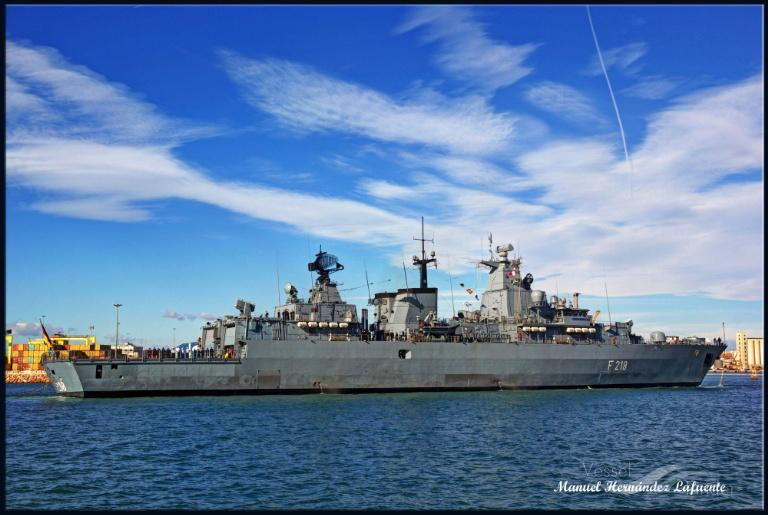OCR: (598, 354, 634, 378)
